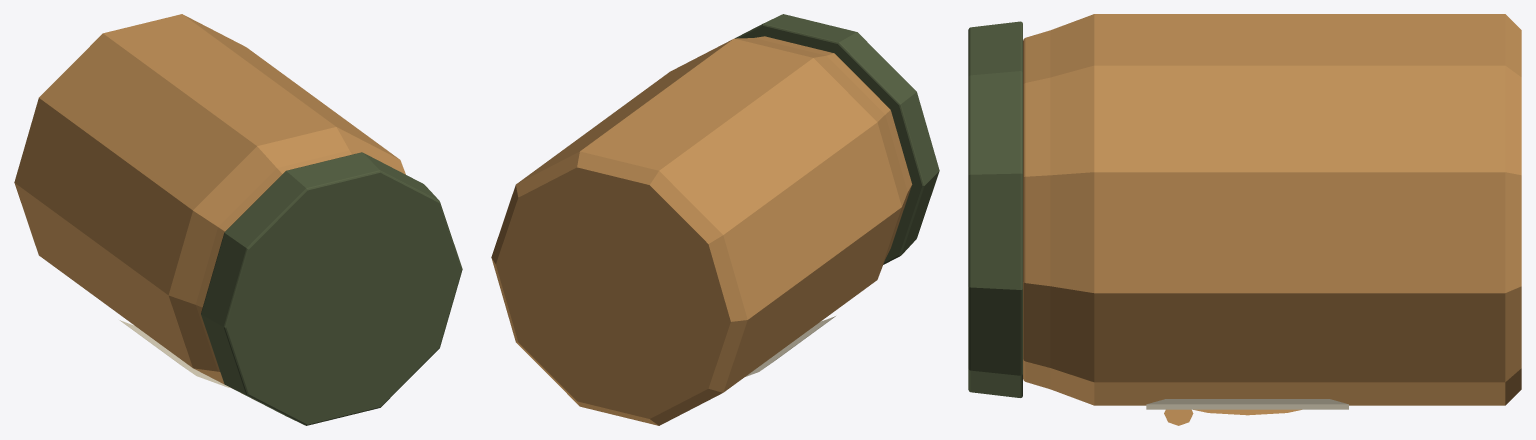
File: almond_butter.glb
3 renders of one model, left to right at view 1: azimuth 30°, elevation 25°; view 2: azimuth 150°, elevation 25°; view 3: azimuth 270°, elevation 25°, orthographic. The views are drawn at different scales.
Visible parts, largest first — view 1: almond_butter; view 2: almond_butter; view 3: almond_butter.
Part boxes in pixels (left/top/right/bottom): almond_butter: left=14, top=14, right=462, bottom=425; almond_butter: left=491, top=14, right=939, bottom=425; almond_butter: left=968, top=14, right=1521, bottom=425.
Size of the model in its own units: 0.072 by 0.0731 by 0.101.
